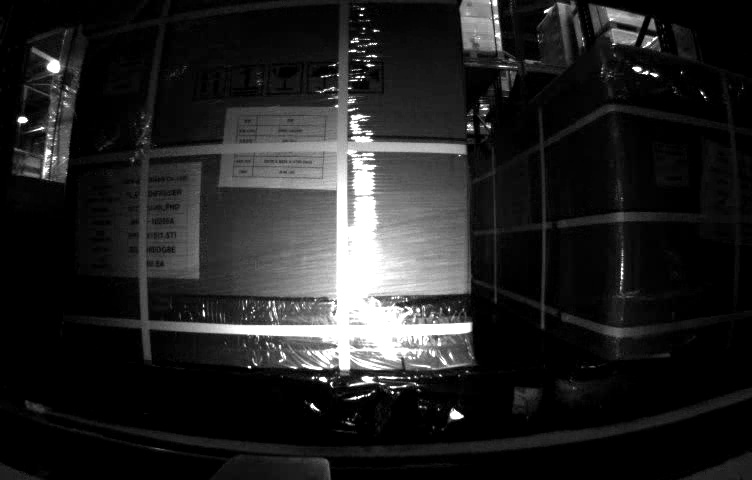True Barcode: (655, 142, 691, 188), (100, 58, 143, 96)
